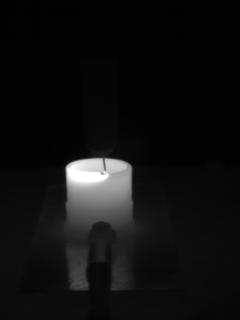tip_wire_left: (85, 146, 106, 174)
tip_wire_right: (104, 145, 116, 174)
